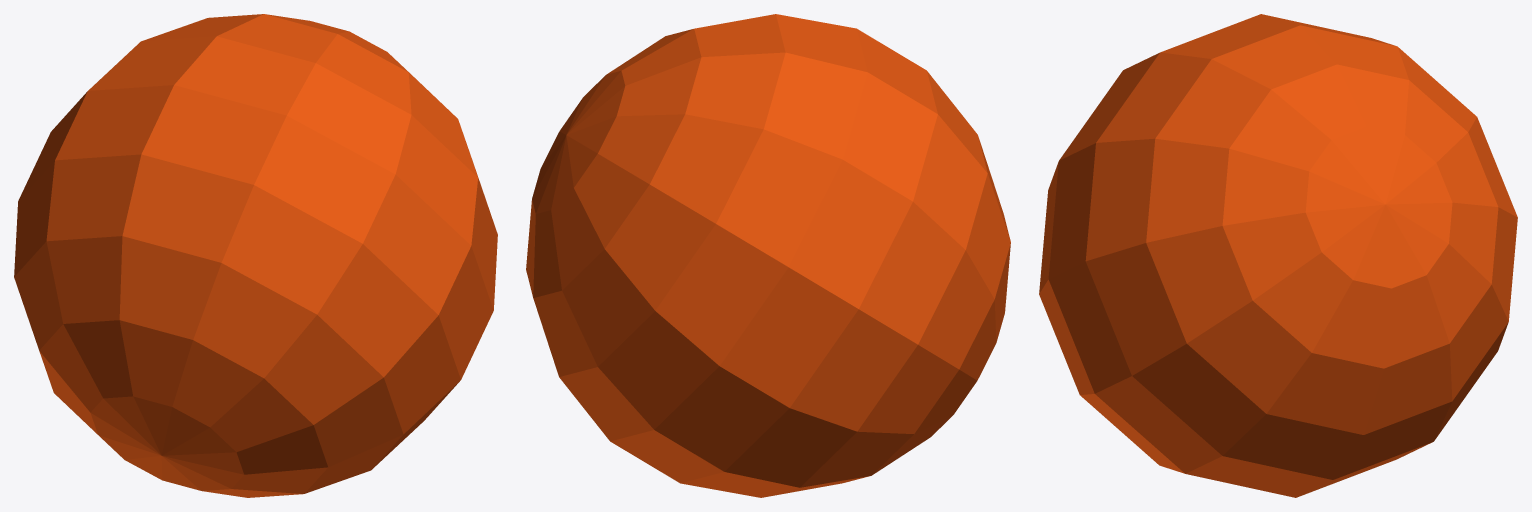
Rendered from orange.fbx.
3 renders of one model, left to right at view 1: azimuth 30°, elevation 25°; view 2: azimuth 150°, elevation 25°; view 3: azimuth 270°, elevation 25°, orthographic.
Parts seen in each view (by area): view 1: Orange; view 2: Orange; view 3: Orange.
Part boxes in pixels (x1,y1,x2,y2): Orange: (14,14,497,497); Orange: (526,14,1010,497); Orange: (1039,14,1517,497).
Bounding box in the file's own units: 0.0542 × 0.0541 × 0.0541.
